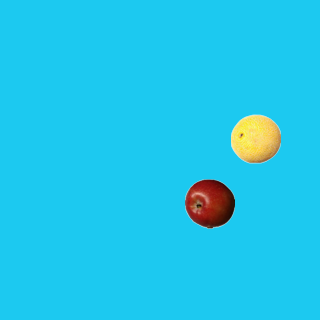Apple Braeburn: (184, 178, 234, 228)
Cantaloupe 1: (230, 113, 280, 163)
